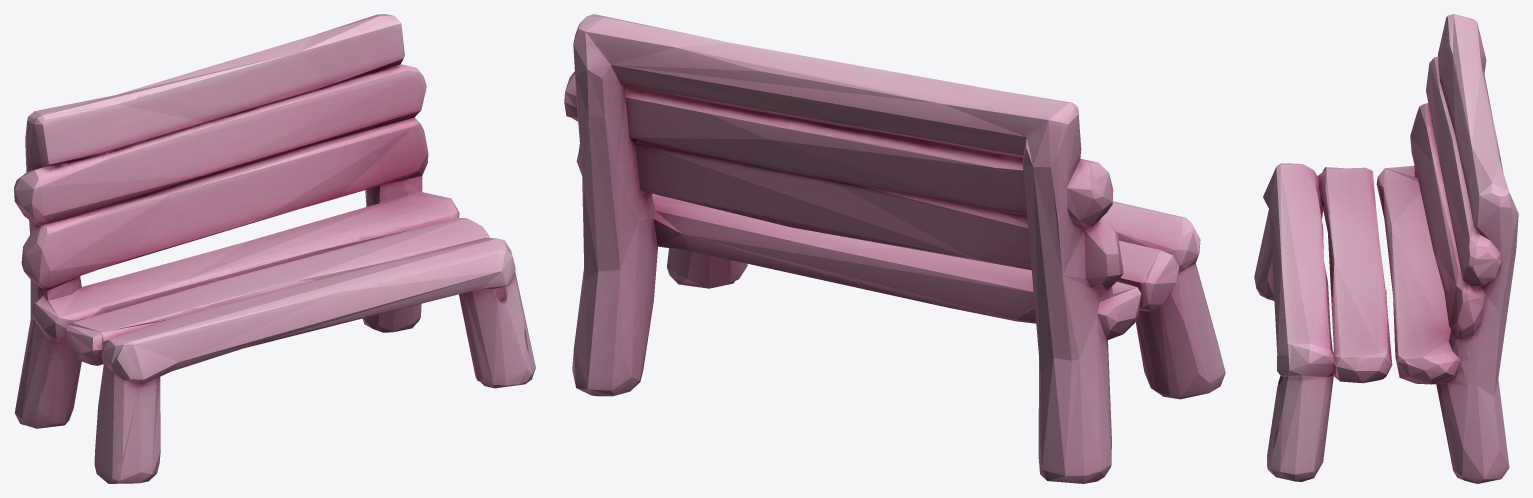
The model's file is sheep_bench.glb.
3 renders of one model, left to right at view 1: azimuth 30°, elevation 25°; view 2: azimuth 150°, elevation 25°; view 3: azimuth 270°, elevation 25°, orthographic. The views are drawn at different scales.
Parts seen in each view (by area): view 1: geometry_0; view 2: geometry_0; view 3: geometry_0.
Boxes of the visible parts, box(x1,y1,x2,y2) form: geometry_0: box(14, 14, 535, 483); geometry_0: box(564, 14, 1225, 483); geometry_0: box(1254, 14, 1518, 483).
Bounding box in the file's own units: 0.9919 × 0.6706 × 0.545.
Materials: 1 (1 with a texture image).
